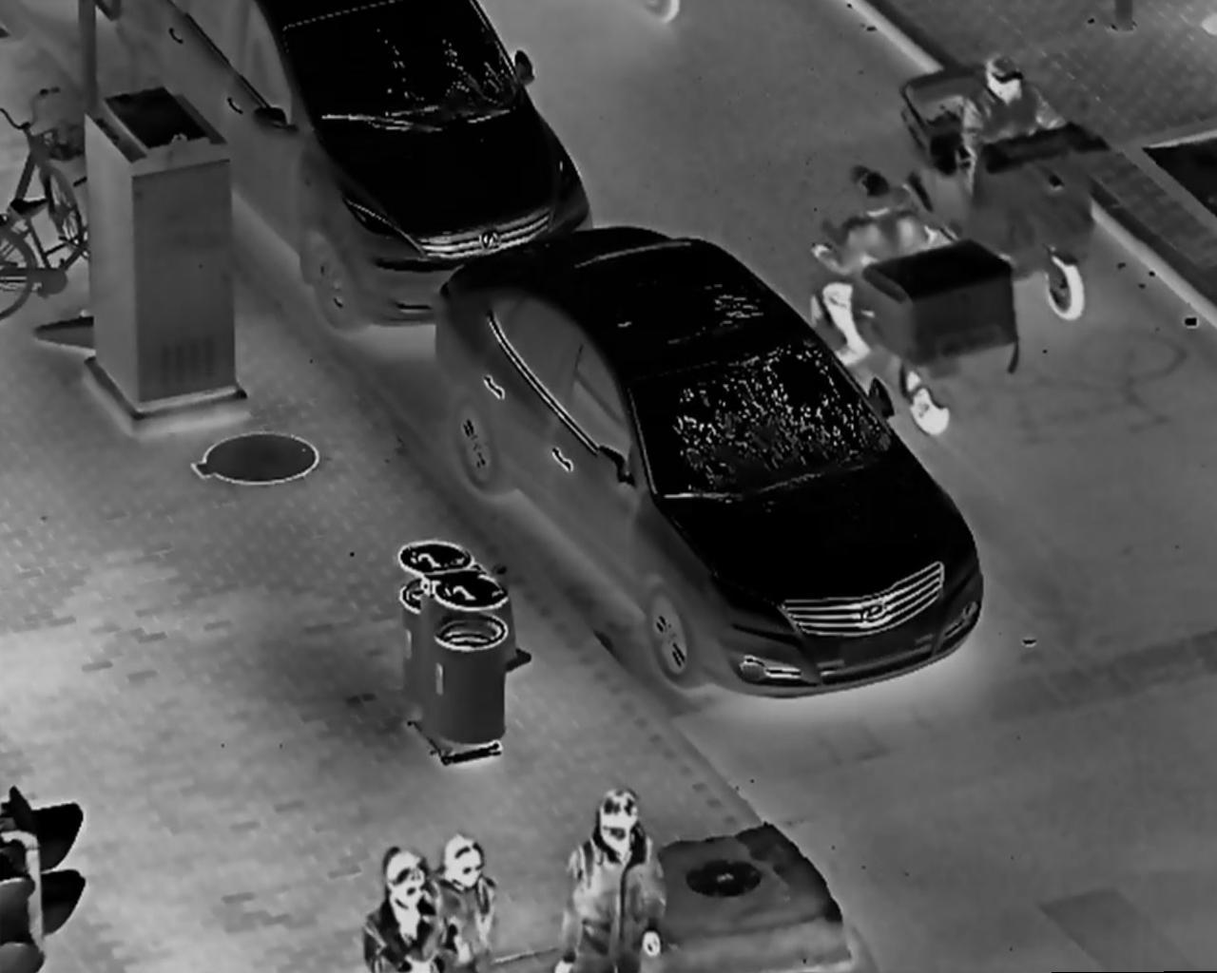person: (808, 158, 953, 375), (956, 50, 1078, 257), (552, 776, 665, 973), (358, 844, 447, 973), (424, 831, 504, 973)
